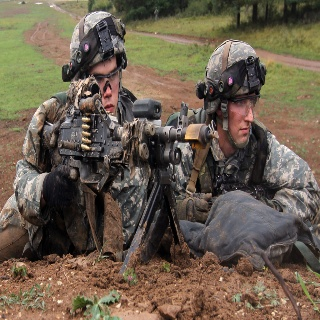rifle: (41, 75, 222, 184)
